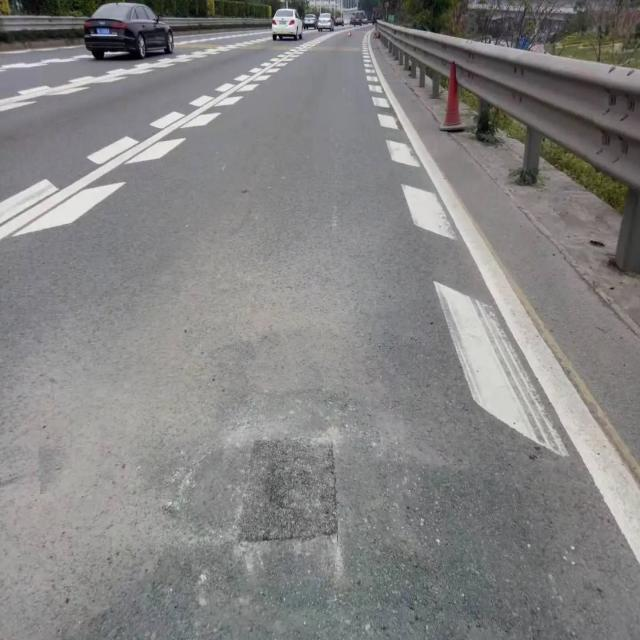Pothole: (233, 430, 347, 548)
